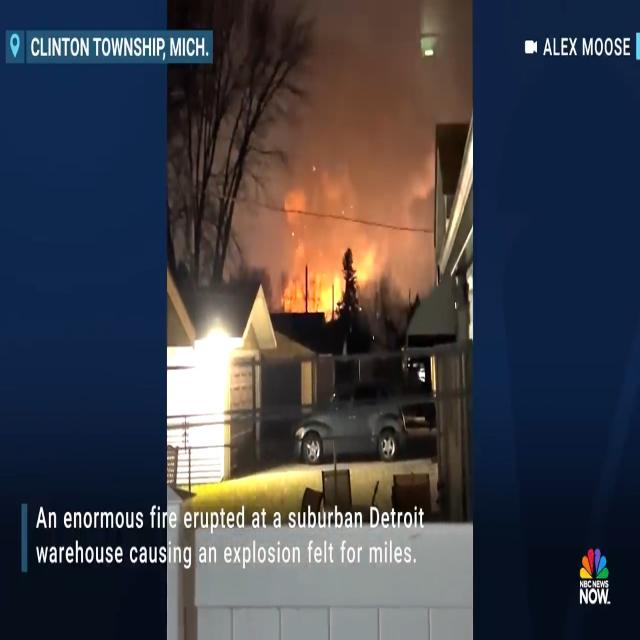fire: (289, 265, 342, 310), (352, 235, 377, 281)
